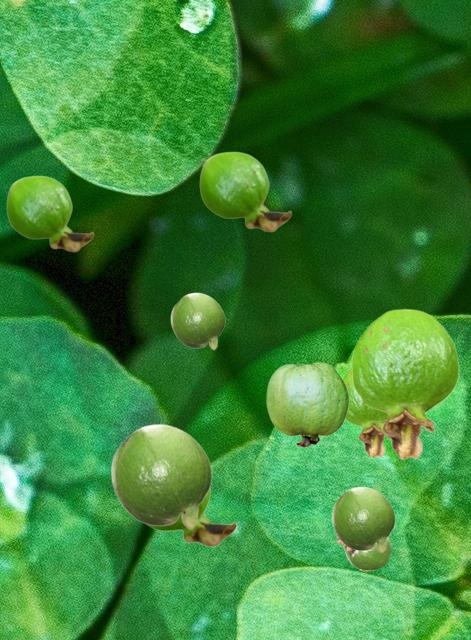guava: (351, 308, 458, 459), (110, 423, 211, 529), (199, 151, 291, 231), (266, 362, 348, 446), (6, 175, 93, 251), (146, 488, 236, 546), (343, 367, 390, 457), (331, 486, 394, 552), (170, 292, 224, 349), (336, 537, 390, 569)
